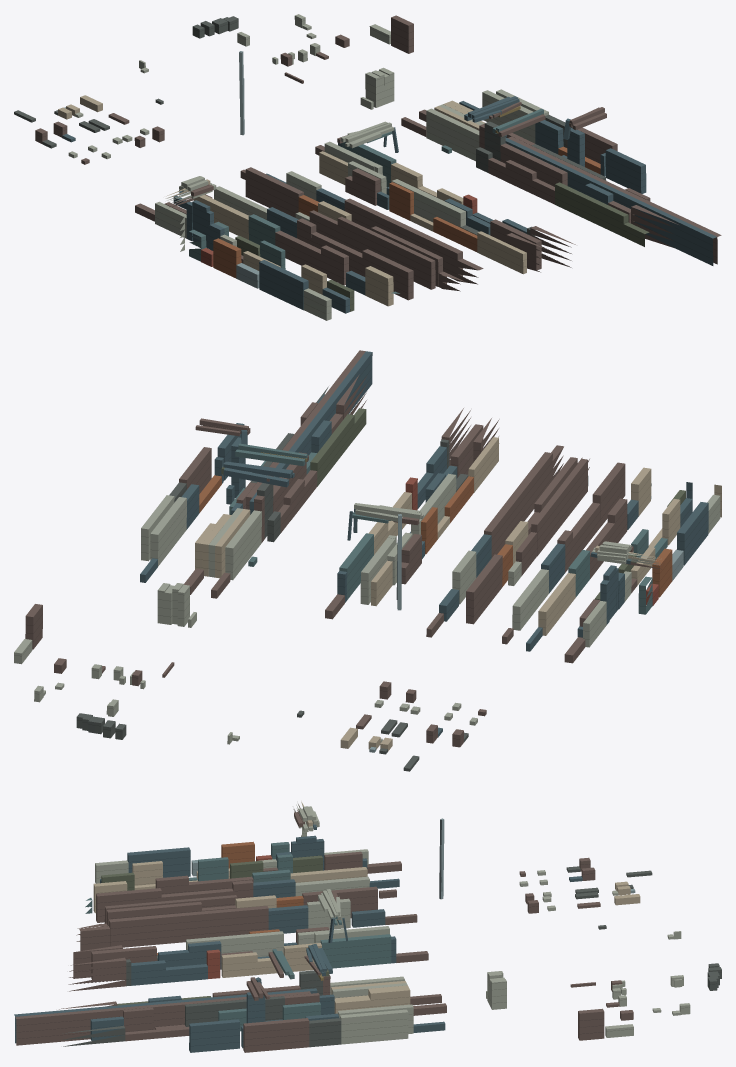
The model's file is terminal-28---122_-17.glb.
The picture shows the model from 3 angles, top to bottom: view 1: azimuth 30°, elevation 25°; view 2: azimuth 150°, elevation 25°; view 3: azimuth 270°, elevation 25°; orthographic projection. The views are drawn at different scales.
Parts seen in each view (by area): view 1: measured-industrial; view 2: measured-industrial; view 3: measured-industrial.
Boxes of the visible parts, x1,y1,x2,y2 form: measured-industrial: [14, 14, 721, 320]; measured-industrial: [14, 350, 721, 771]; measured-industrial: [14, 801, 721, 1052].
Bounding box in the file's own units: 186 × 47.72 × 280.
